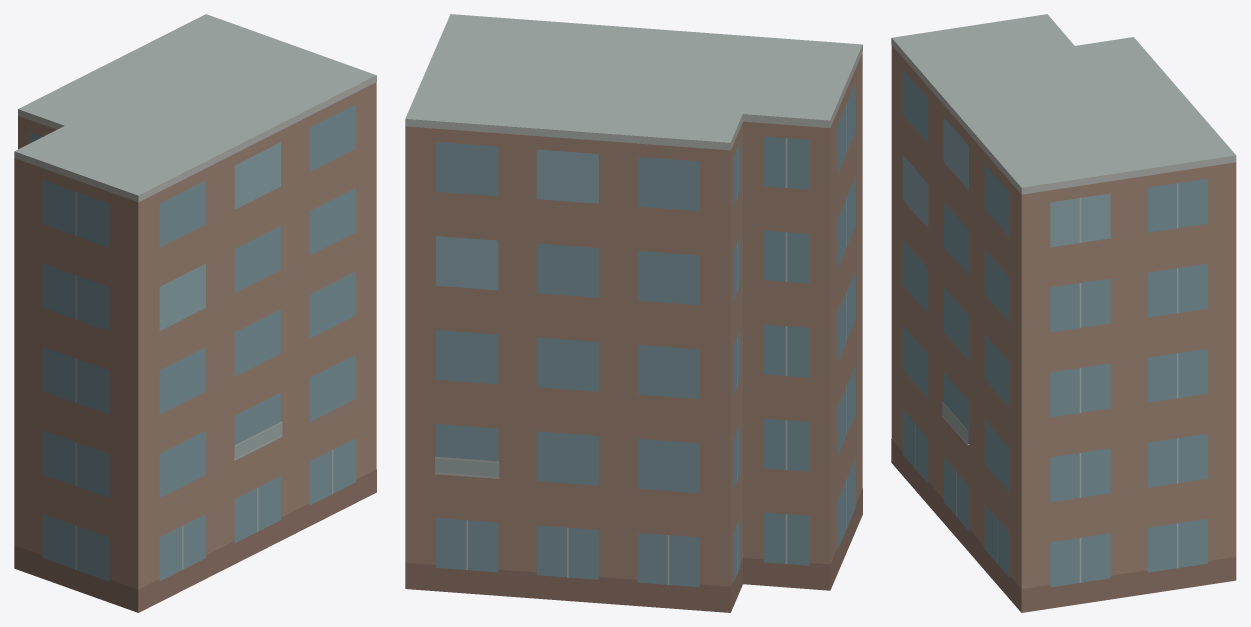
The model's file is survey-upis-32965802.glb.
3 views of the same model, side by side, from view 1: azimuth 30°, elevation 25°; view 2: azimuth 150°, elevation 25°; view 3: azimuth 270°, elevation 25° (orthographic). The views are drawn at different scales.
Parts seen in each view (by area): view 1: survey-upis-32965802.tmp; view 2: survey-upis-32965802.tmp; view 3: survey-upis-32965802.tmp.
Part boxes in pixels (x1,y1,x2,y2): survey-upis-32965802.tmp: [14, 14, 376, 612]; survey-upis-32965802.tmp: [405, 14, 862, 612]; survey-upis-32965802.tmp: [891, 14, 1236, 612].
Bounding box in the file's own units: 13.39 × 15.25 × 11.23.
